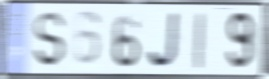6: (73, 7, 104, 73), (112, 12, 141, 70)
9: (225, 9, 256, 73)
I: (194, 10, 206, 72)
J: (146, 11, 182, 71)
S: (33, 10, 67, 70)
